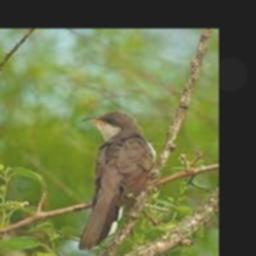Cuckoo: (77, 111, 157, 250)
